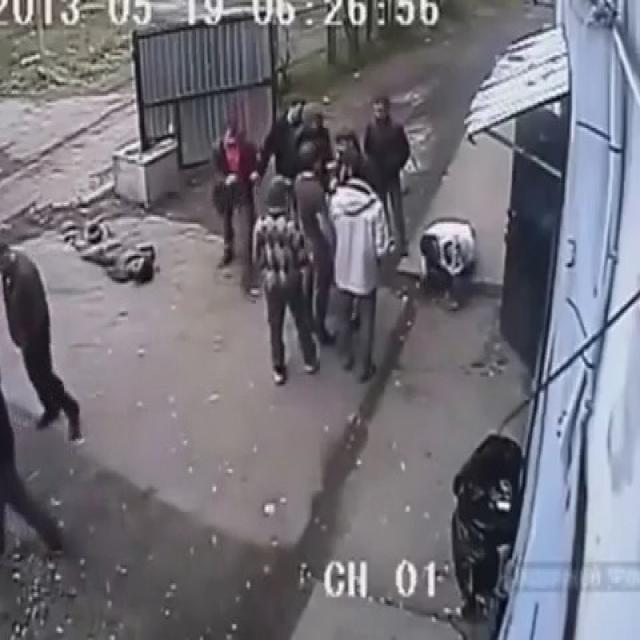fight: (212, 107, 322, 384), (300, 127, 359, 353)
